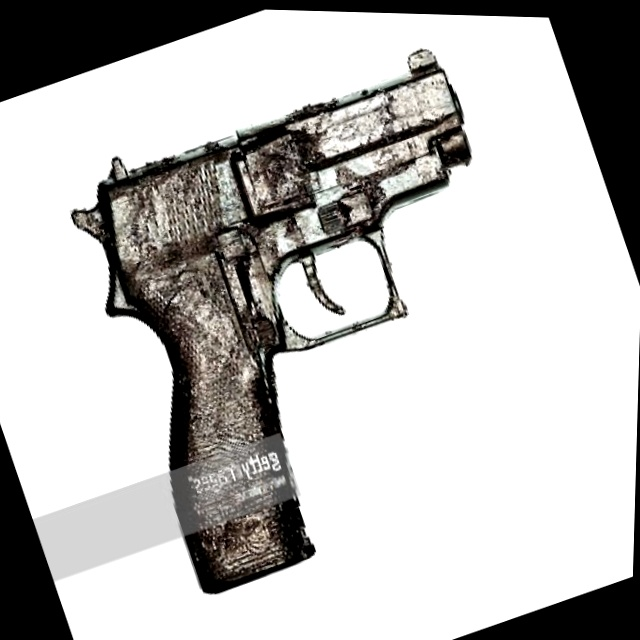gun: (34, 16, 603, 614)
